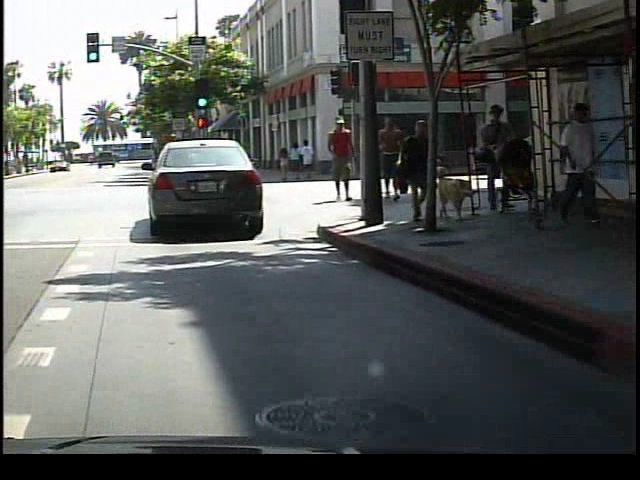person: (326, 114, 365, 205), (382, 106, 405, 206)
